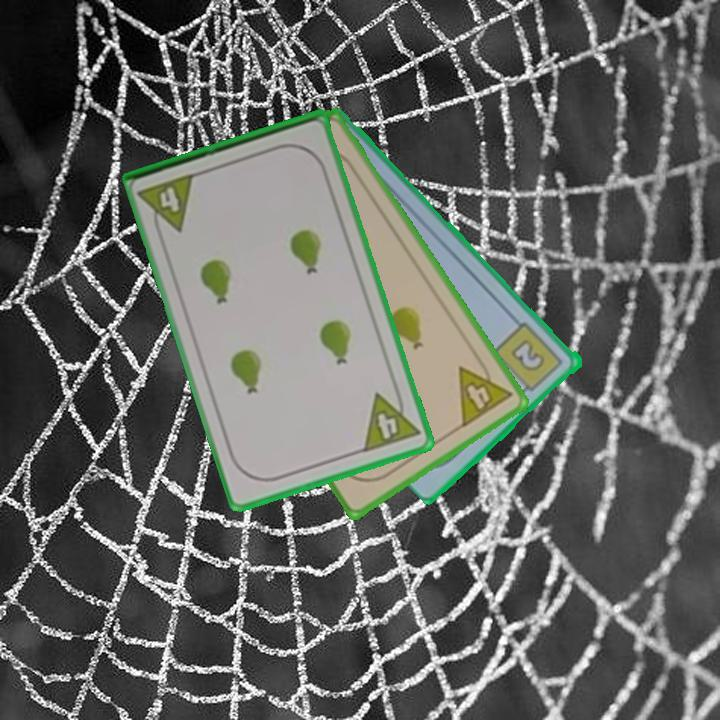2b: (491, 319, 567, 399)
4p: (455, 352, 515, 431), (360, 383, 423, 455), (136, 169, 199, 240)
